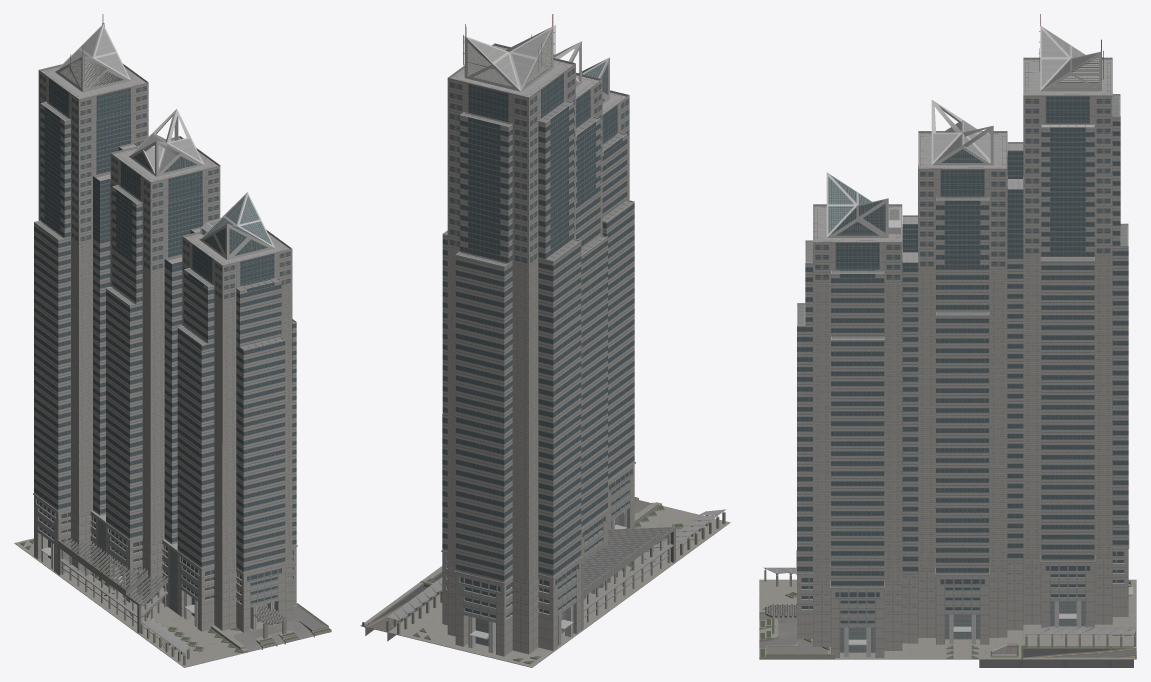
The model's file is office-l10.glb.
The picture shows the model from 3 angles, left to right: view 1: azimuth 30°, elevation 25°; view 2: azimuth 150°, elevation 25°; view 3: azimuth 270°, elevation 25°; orthographic projection. The views are drawn at different scales.
Parts seen in each view (by area): view 1: shinjuku_01 - Default_0; view 2: shinjuku_01 - Default_0; view 3: shinjuku_01 - Default_0.
Boxes of the visible parts, x1,y1,x2,y2 form: shinjuku_01 - Default_0: (14,14,331,667); shinjuku_01 - Default_0: (360,14,730,667); shinjuku_01 - Default_0: (759,14,1136,667).
Bounding box in the file's own units: 64.65 × 221 × 128.
1 material, 1 textured.
